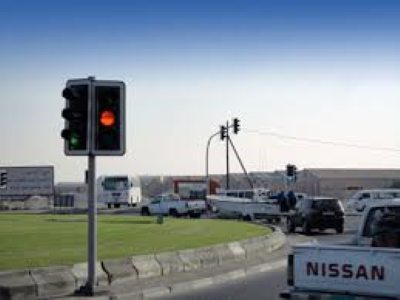trafficlight_green: (61, 81, 90, 152)
trafficlight_red: (94, 82, 122, 149)
